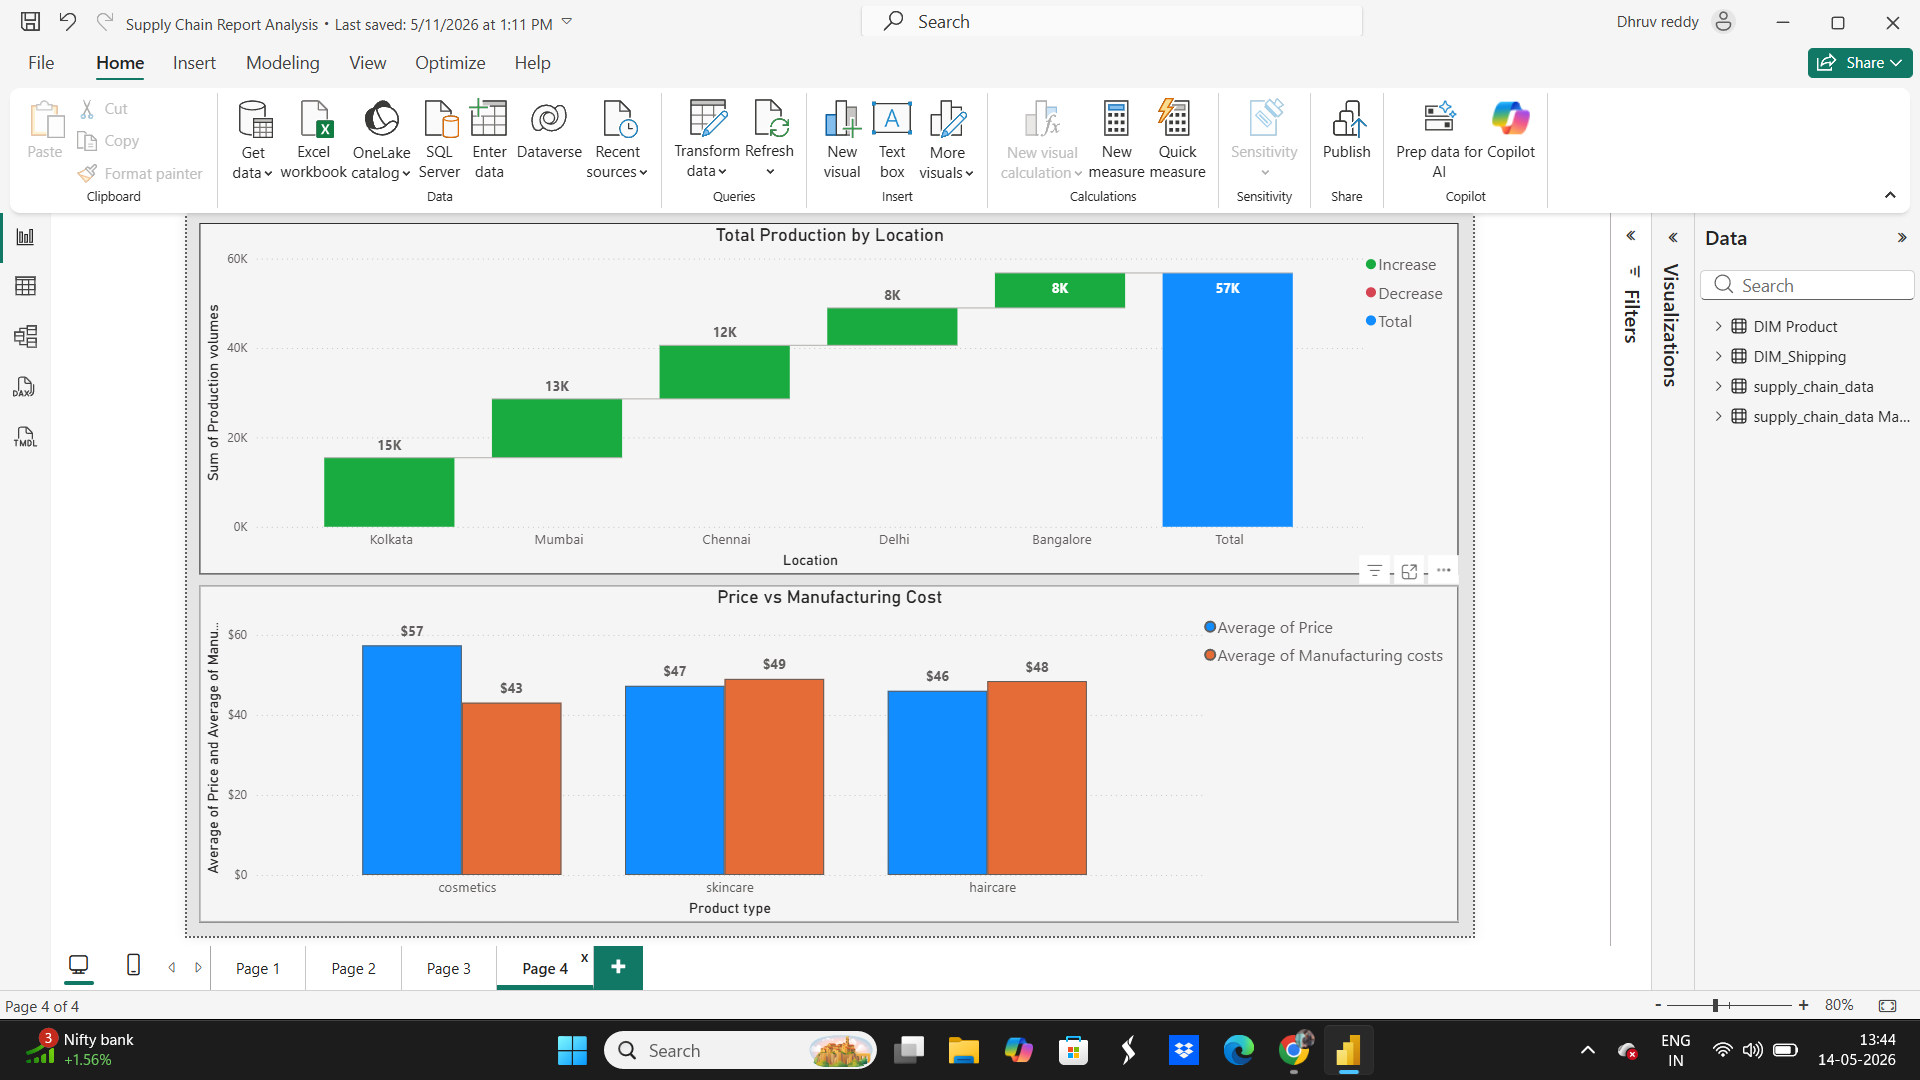

This screenshot's page, from the dashboard's own definition file:
{"tool":"powerbi","page":{"name":"Page 4","canvas":[1280,720],"ordinal":3},"visuals":[{"type":"waterfallChart","title":"Total Production by Location","fields":{"Y":["Sum(supply_chain_data.Production volumes)"],"Category":["supply_chain_data.Location"]},"box":[12.9,10.4,1253.1,349.5],"z":0},{"type":"clusteredColumnChart","title":"Price vs Manufacturing Cost","fields":{"Y":["Avg(supply_chain_data.Price)","Avg(supply_chain_data.Manufacturing costs)"],"Category":["supply_chain_data.Product type"]},"box":[12.9,370.2,1253.1,335.3],"z":1}]}

Visuals, with their boxes on the page's 1280x720 design canvas (x1, y1, x2, y2). These are canvas units, not pixel positions in the 1920x1080 screenshot, which may show the page scaled, cropped or inside an application window:
"Total Production by Location" waterfallChart: bbox=(13, 10, 1266, 360)
"Price vs Manufacturing Cost" clusteredColumnChart: bbox=(13, 370, 1266, 706)
